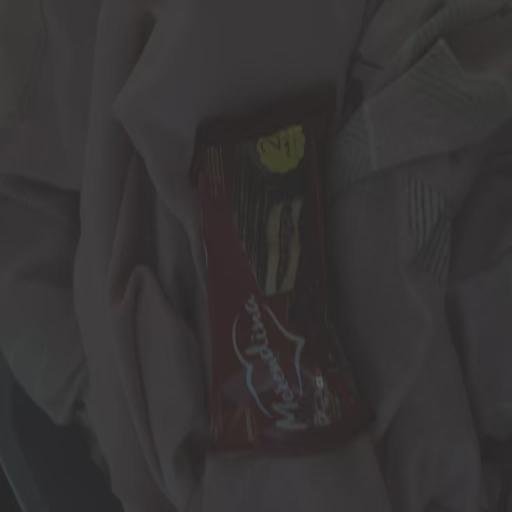merendina: (166, 64, 413, 489)
